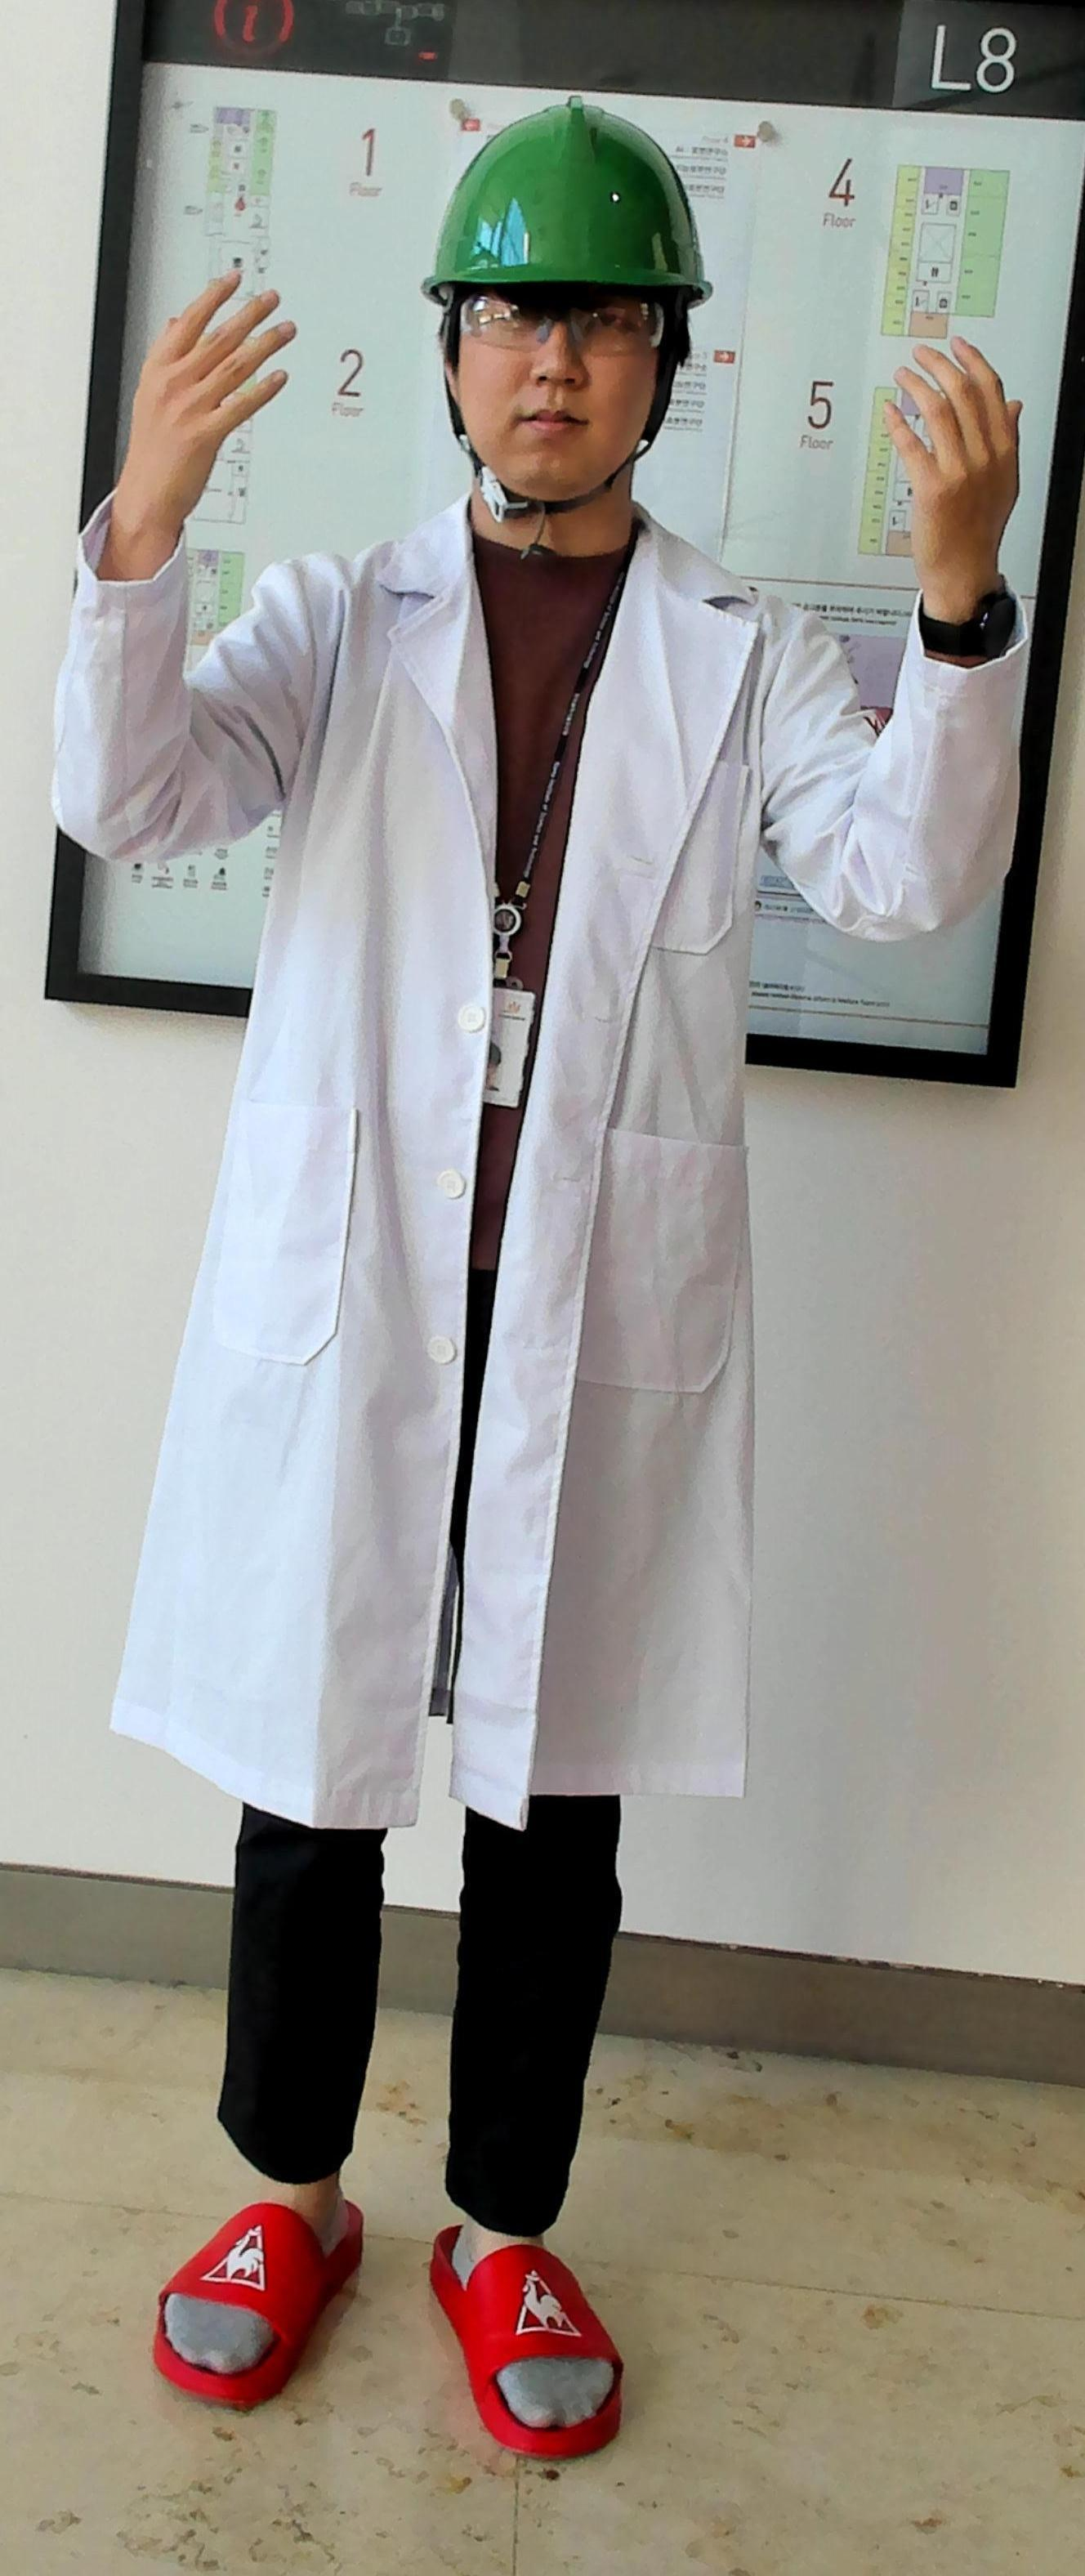lab_coat: (182, 609, 793, 1768)
